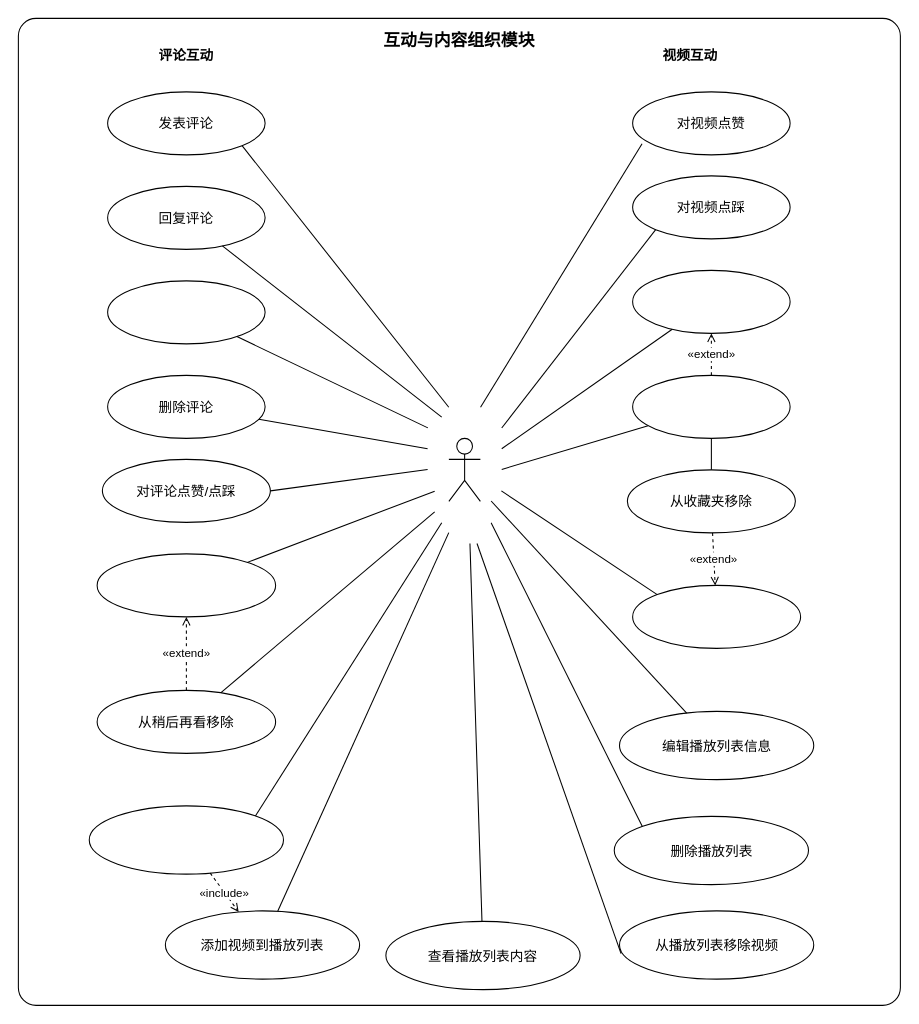
The diagram is 919 pixels wide and 1024 high, and some of its shapes have lost their labels. The shapes that lost their labels are listed below. From the top down, each one's box as (x1, y1, x2, y2) in pixels, then its label:
(107, 280, 265, 344): 编辑评论内容
(632, 269, 790, 333): 订阅频道
(632, 374, 790, 438): 取消订阅频道
(448, 437, 480, 501): 用户
(96, 553, 276, 617): 添加到稍后再看
(632, 584, 801, 648): 保存到收藏夹
(88, 805, 284, 874): 创建自定义播放列表
